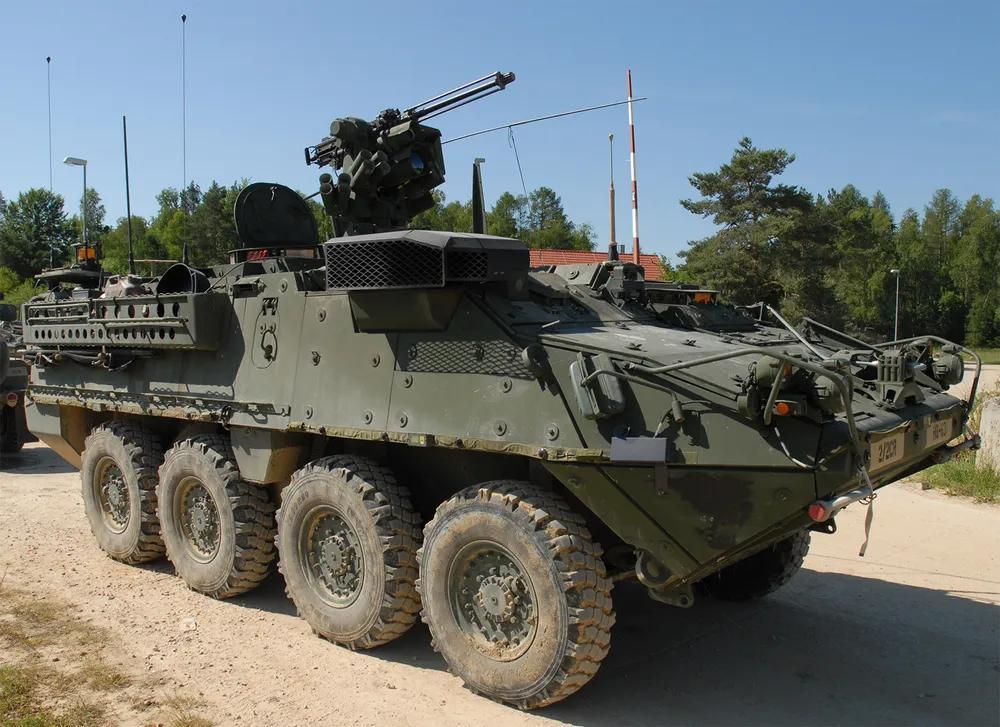MIL_IFV: (22, 103, 981, 710)
